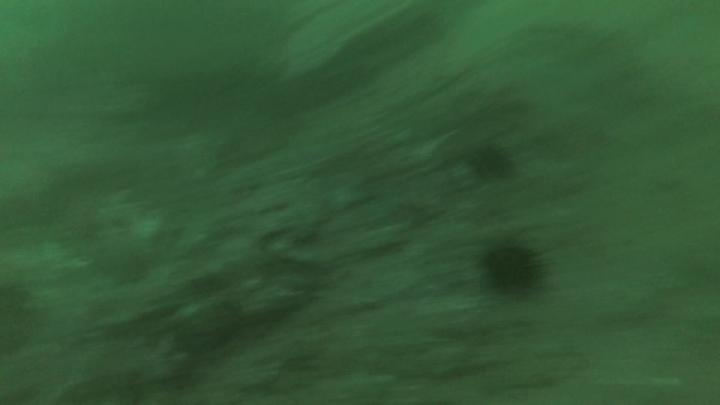echinus: (477, 235, 550, 300), (469, 141, 517, 183)
